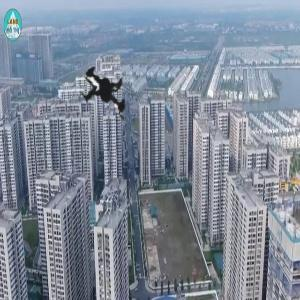drone: (17, 30, 174, 187)
